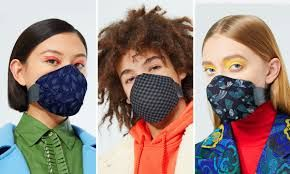with-mask: (201, 16, 282, 130), (110, 22, 189, 126), (11, 22, 93, 120)
